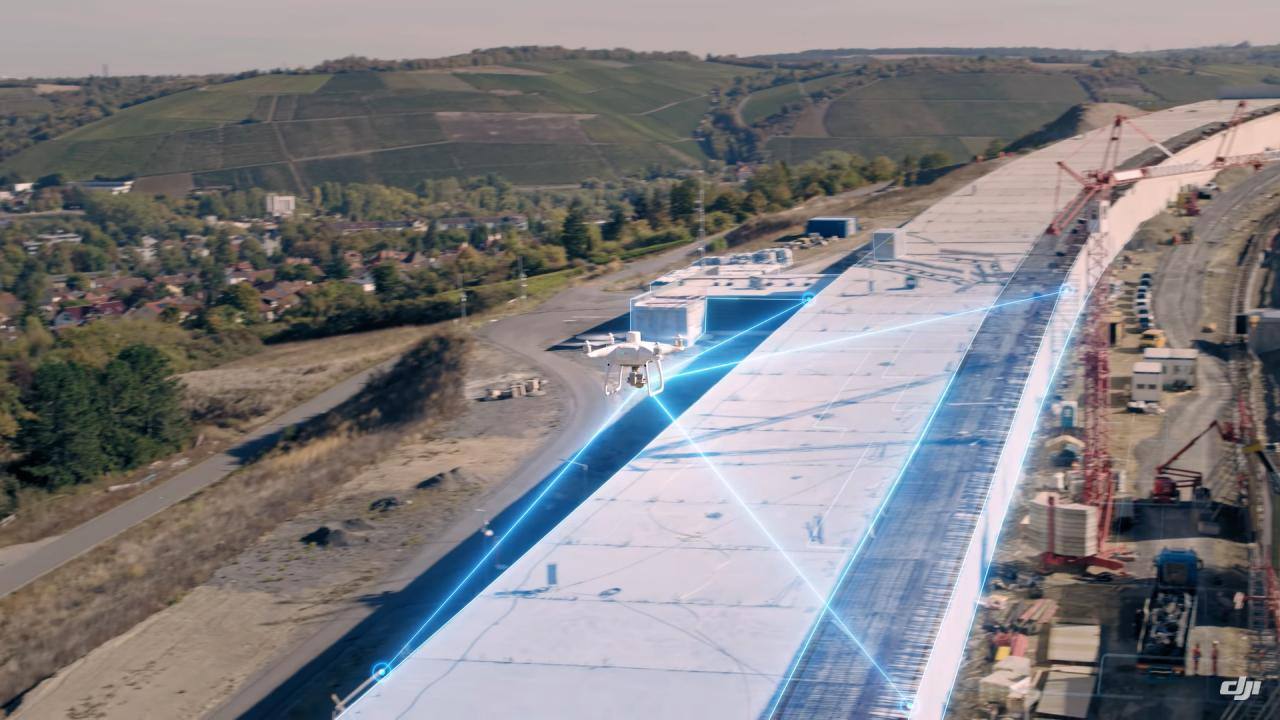Drone: (546, 324, 723, 403)
